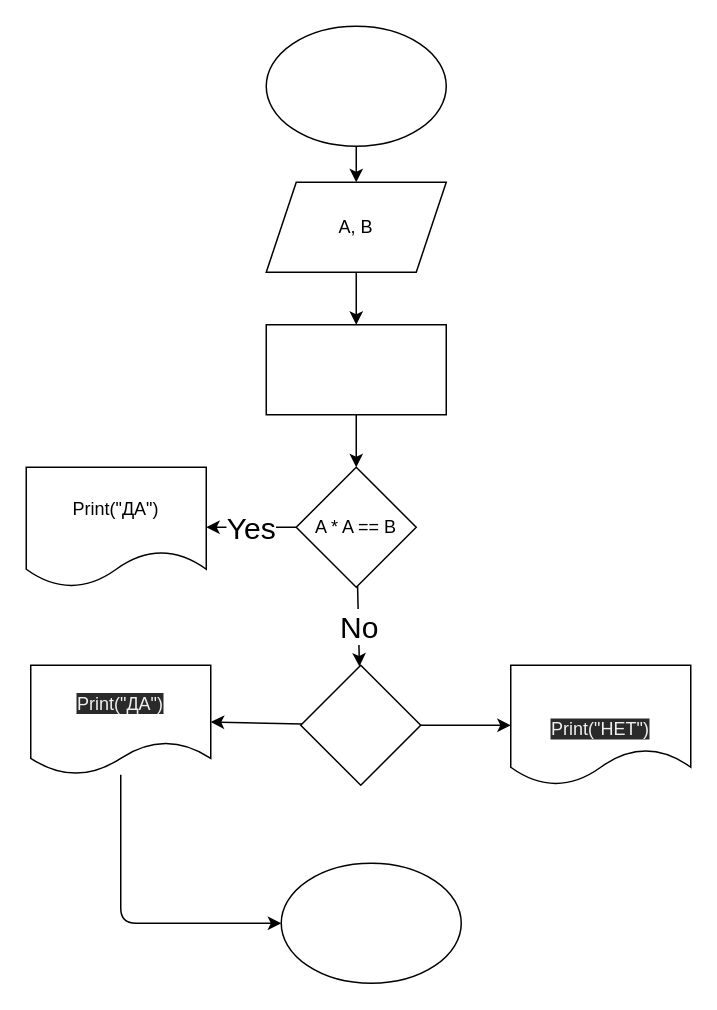
This 717x1010 diagram has some shape labels left out. Each missing label, with the centre of its shape:
"A == B*B" belongs at pixel 360 724.
"C = A*A D = B*B" belongs at pixel 355 369.
"star t" belongs at pixel 355 85.
